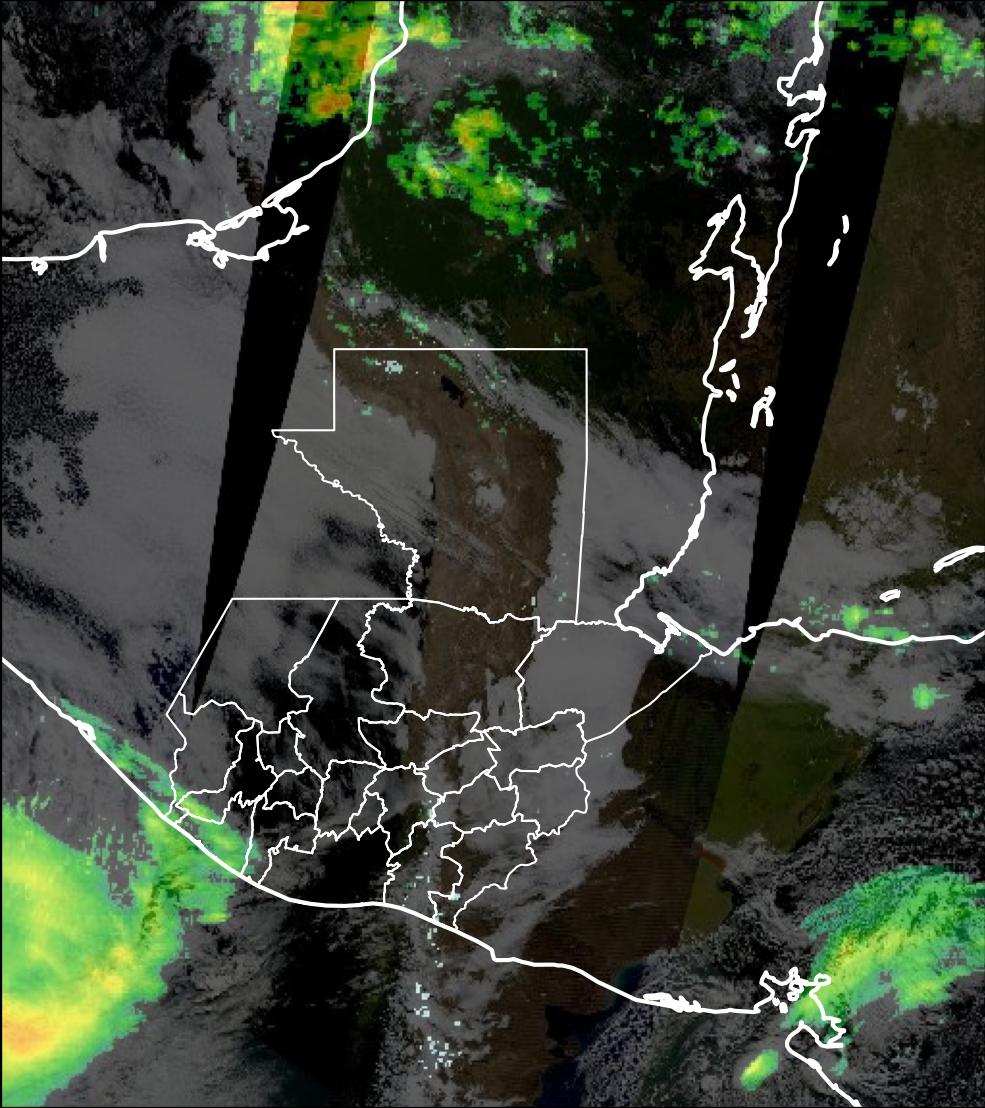precipitacion: (1, 928, 139, 1076)
